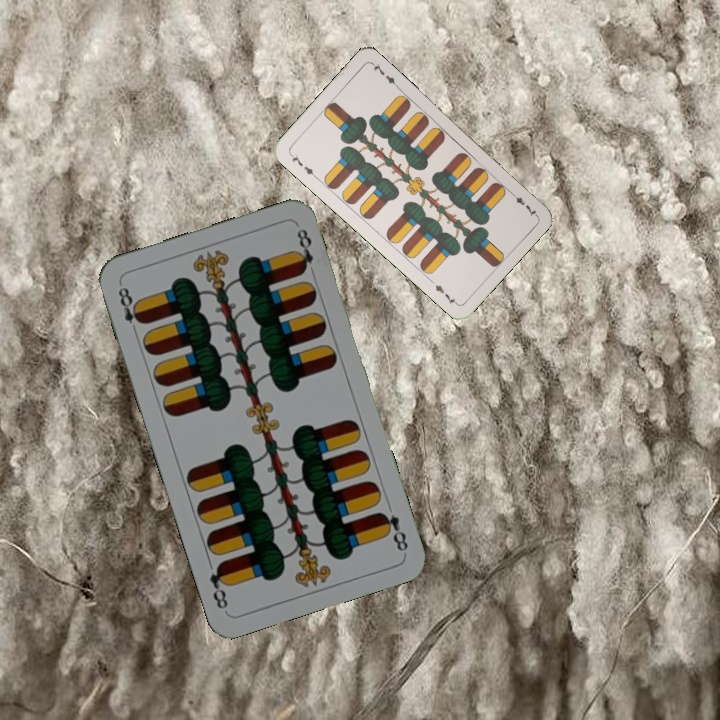E7: (506, 187, 539, 219), (286, 150, 319, 181)
E8: (114, 280, 146, 338), (375, 508, 411, 554)
